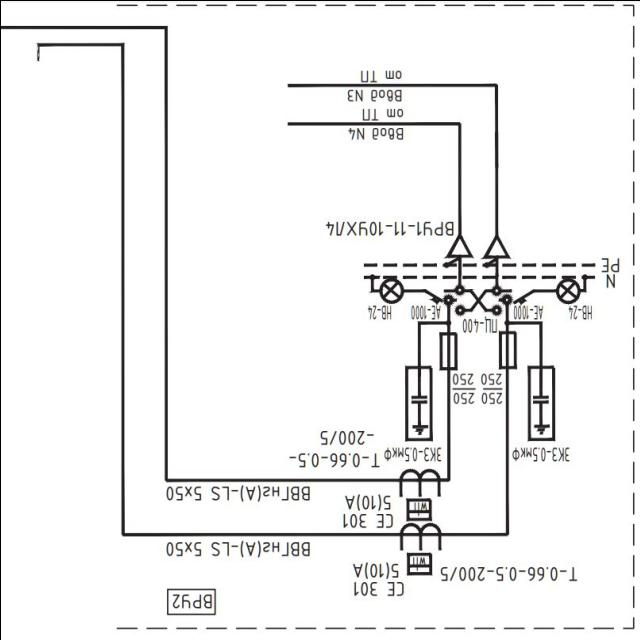-: (284, 425, 381, 470), (436, 562, 579, 584), (324, 216, 454, 238), (336, 492, 395, 532), (348, 558, 406, 598), (451, 371, 476, 408), (455, 314, 493, 336), (481, 371, 504, 407), (408, 303, 442, 321), (512, 303, 544, 321), (364, 302, 392, 322), (566, 304, 594, 322)
FU: (496, 329, 519, 372), (436, 331, 458, 373)
HL: (377, 277, 404, 305), (554, 278, 581, 306)
QF: (504, 288, 536, 306), (425, 284, 445, 306)
TT: (396, 520, 443, 552), (396, 468, 443, 500)
WH: (402, 494, 430, 520), (406, 551, 434, 577)
switch: (484, 286, 514, 316), (441, 286, 471, 316)
